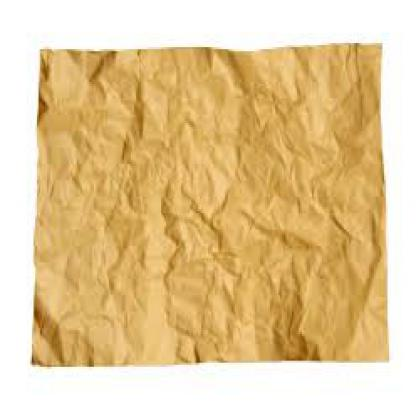paper: (28, 37, 388, 363)
